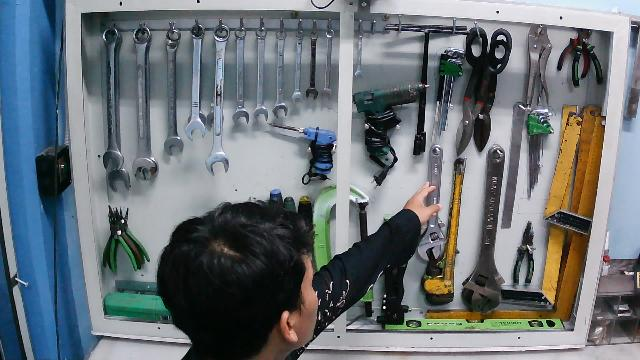kunci_inggris: (418, 141, 449, 265)
